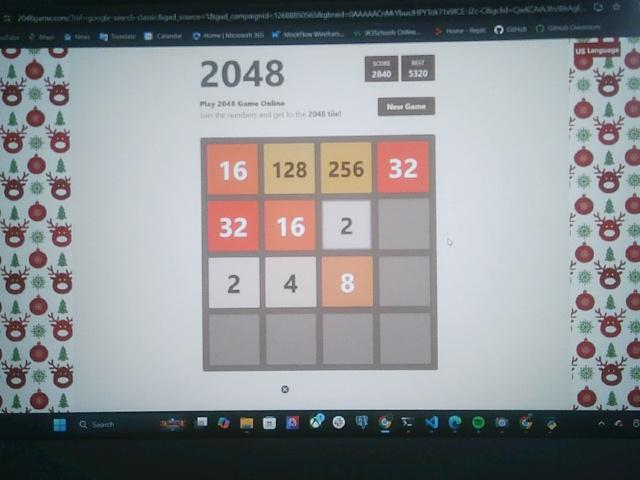board: (202, 137, 436, 371)
tile: (320, 143, 373, 194), (264, 143, 316, 194), (207, 200, 259, 251), (209, 257, 261, 308), (265, 199, 316, 250), (206, 144, 258, 194), (266, 257, 317, 307), (322, 257, 374, 306), (379, 142, 428, 193), (323, 202, 372, 250)
